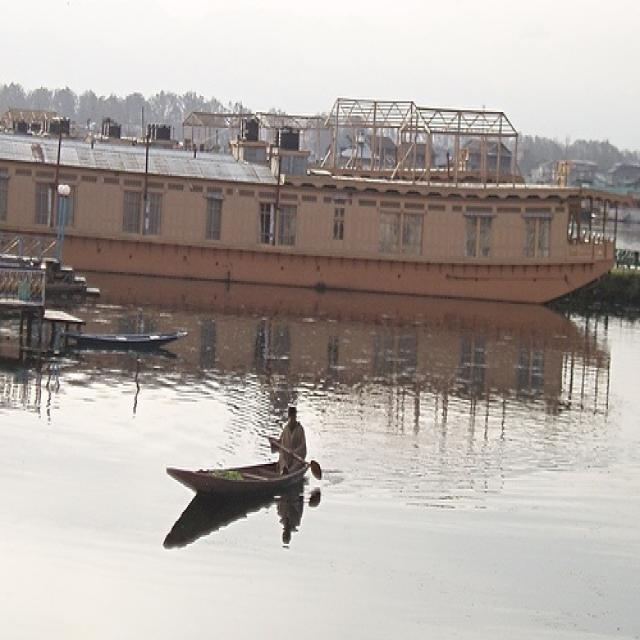boat: (0, 127, 598, 297), (168, 448, 326, 519), (64, 323, 195, 354)
